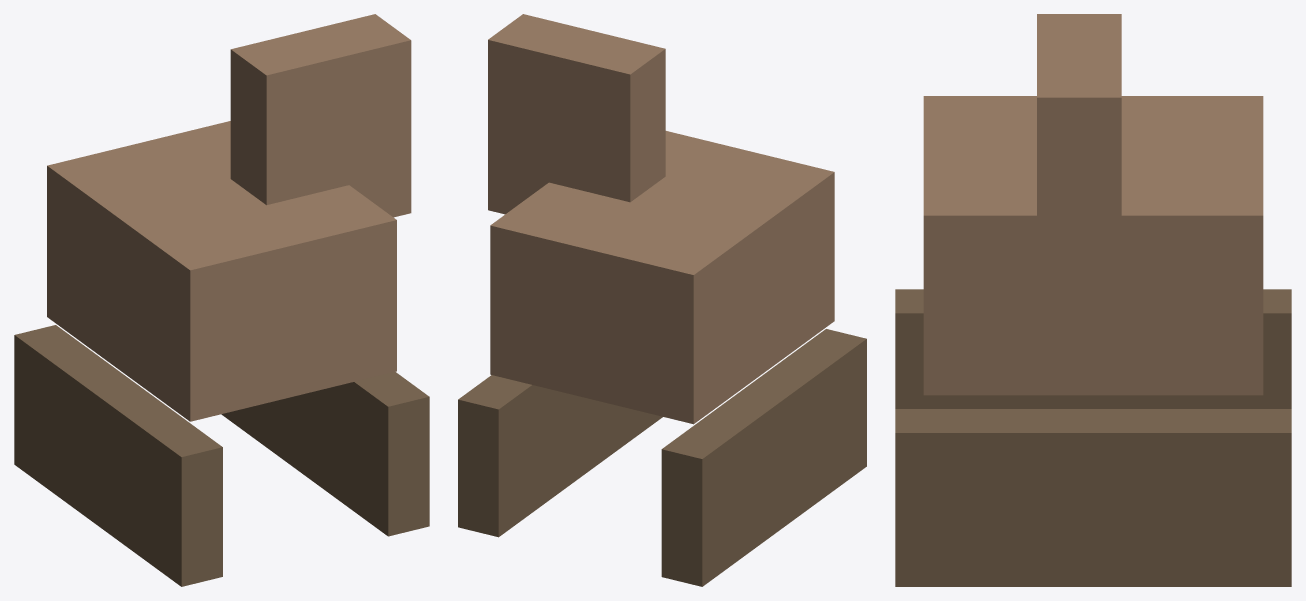
The model's file is cavalinho_balanco.glb.
3 views of the same model, side by side, from view 1: azimuth 30°, elevation 25°; view 2: azimuth 150°, elevation 25°; view 3: azimuth 270°, elevation 25° (orthographic). The views are drawn at different scales.
Visible parts, largest first — view 1: Malha_0; view 2: Malha_0; view 3: Malha_0.
Boxes of the visible parts, x1=… form: Malha_0: x1=14, y1=14, x2=429, y2=586; Malha_0: x1=458, y1=14, x2=866, y2=586; Malha_0: x1=895, y1=14, x2=1291, y2=586.
Size of the model in its own units: 0.7 by 1 by 0.7.
